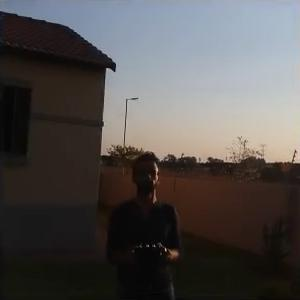follow: (97, 151, 184, 298)
